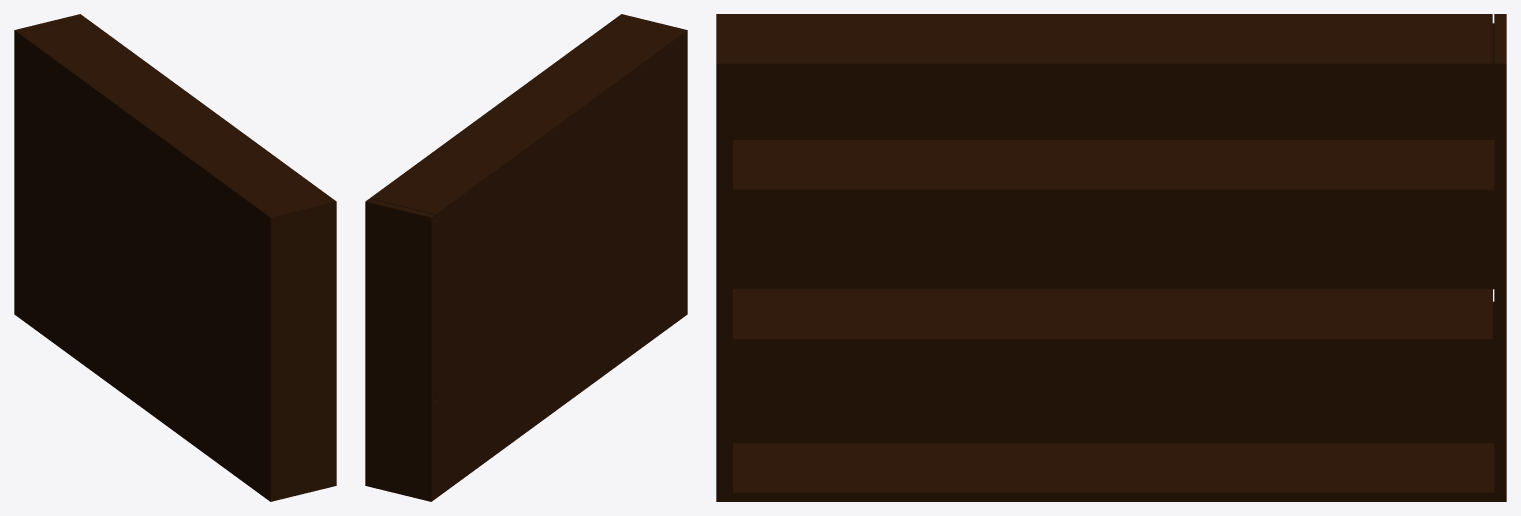
File: dresser.fbx
The picture shows the model from 3 angles, left to right: view 1: azimuth 30°, elevation 25°; view 2: azimuth 150°, elevation 25°; view 3: azimuth 270°, elevation 25°; orthographic projection. The views are drawn at different scales.
Visible parts, largest first — view 1: Cube; view 2: Cube; view 3: Cube.
Boxes of the visible parts, x1,y1,x2,y2 form: Cube: [14, 14, 336, 501]; Cube: [365, 14, 687, 501]; Cube: [716, 14, 1506, 501].
Bounding box in the file's own units: 200 × 822 × 1343.
